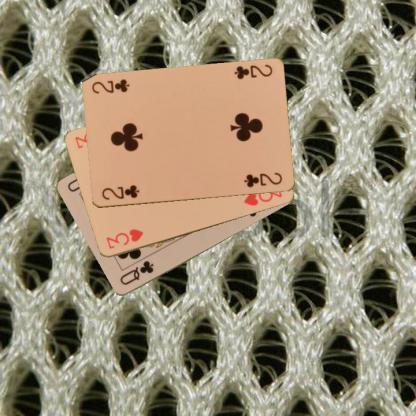2c: (231, 62, 273, 81), (99, 183, 140, 202)
3h: (103, 226, 145, 251)
Qc: (117, 258, 155, 287)
